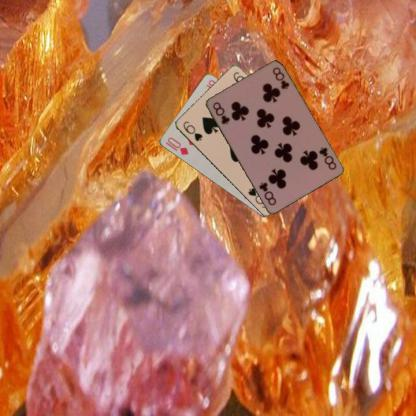10d: (164, 134, 190, 156)
6s: (180, 118, 204, 143)
8c: (316, 144, 337, 171), (210, 100, 231, 126)
